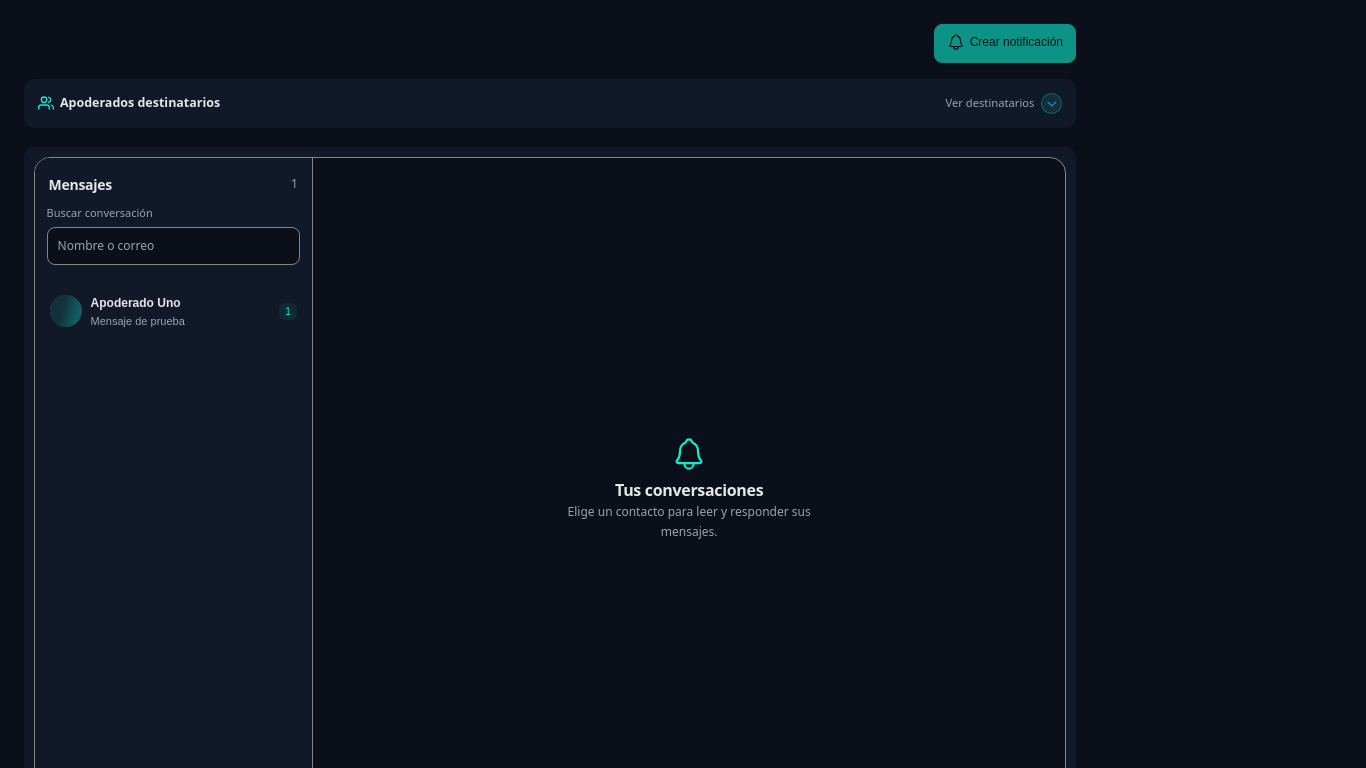
Test: Notificacion para administración › carga la conversación al abrirla y no repite indefinidamente una carga fallida
Click the button "Apoderado Uno Mensaje de prueba 1" at (173, 311), box [41,277,306,345]
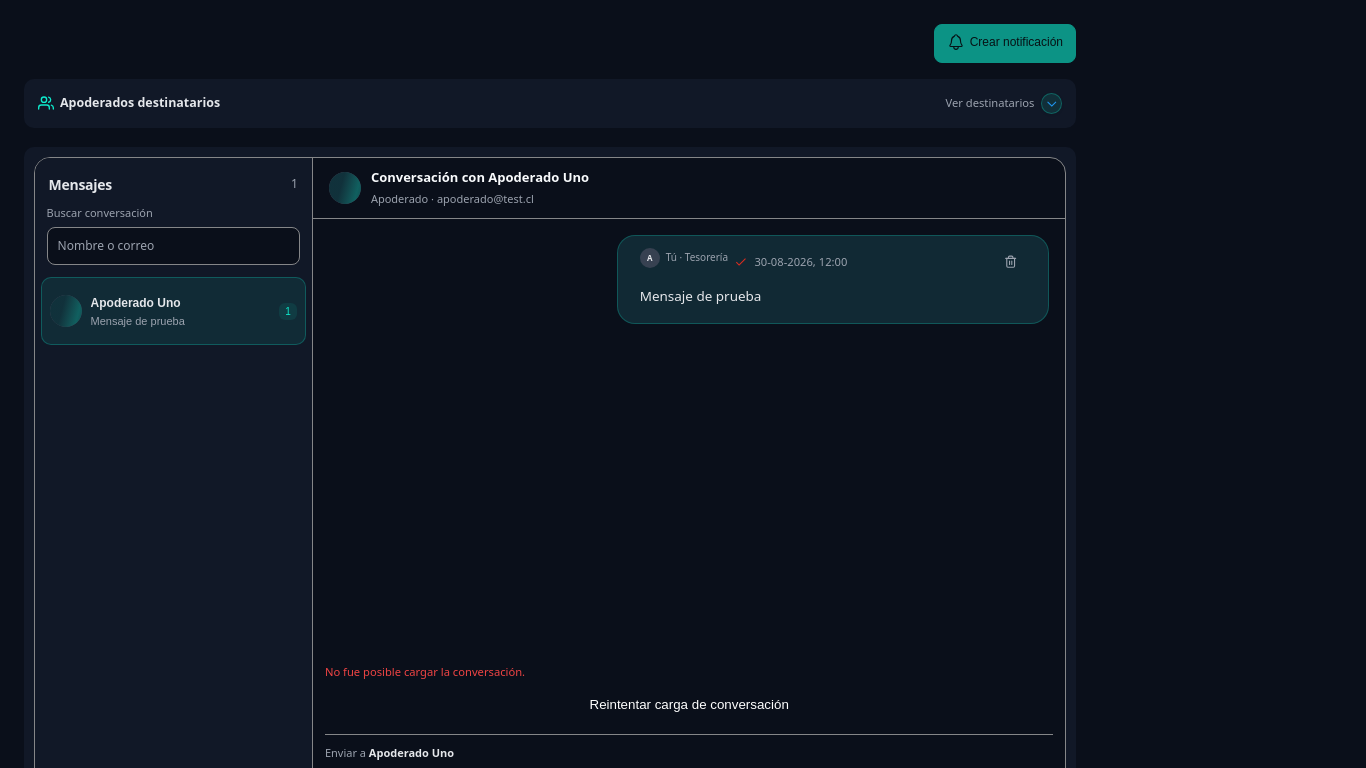
Expected: the text "No fue posible cargar la conversación." is shown, [325,664,525,679]
